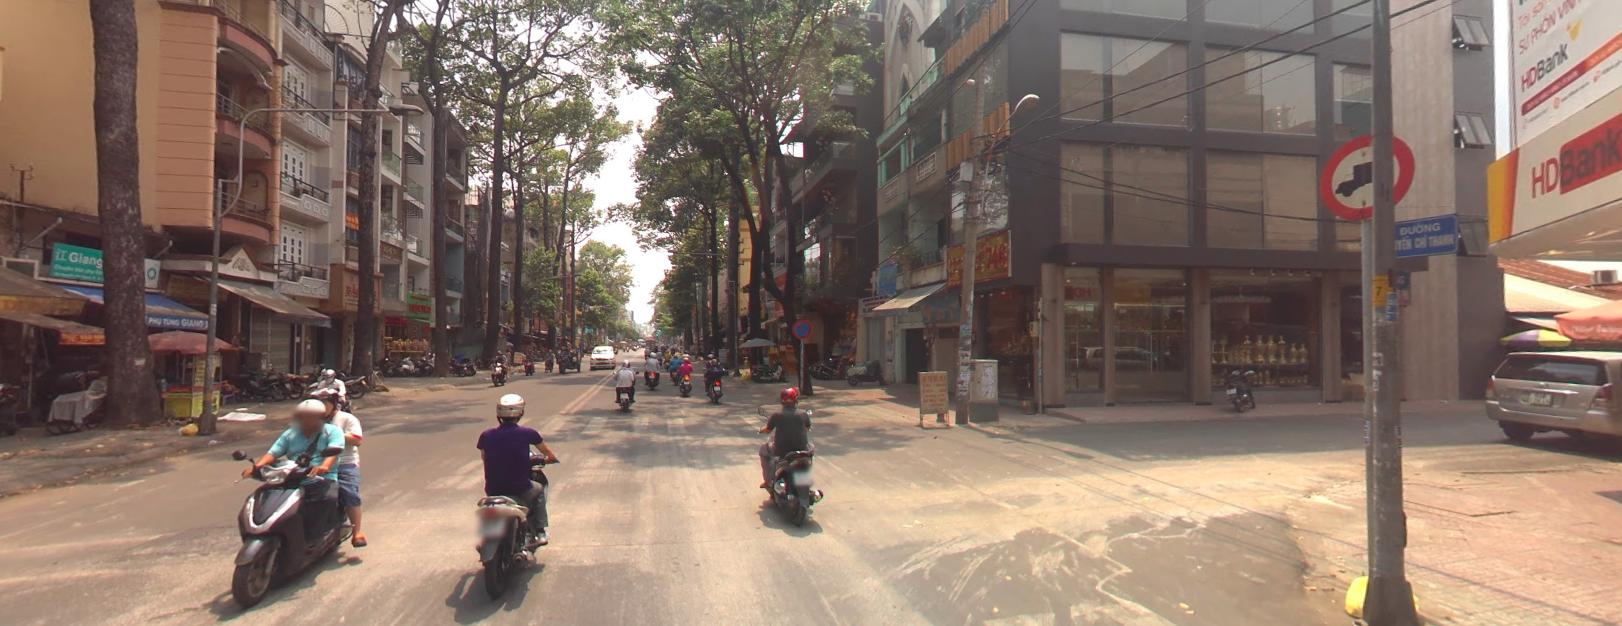Cam con lai: (1318, 132, 1414, 216)
Cam dung va do: (792, 318, 811, 337)
